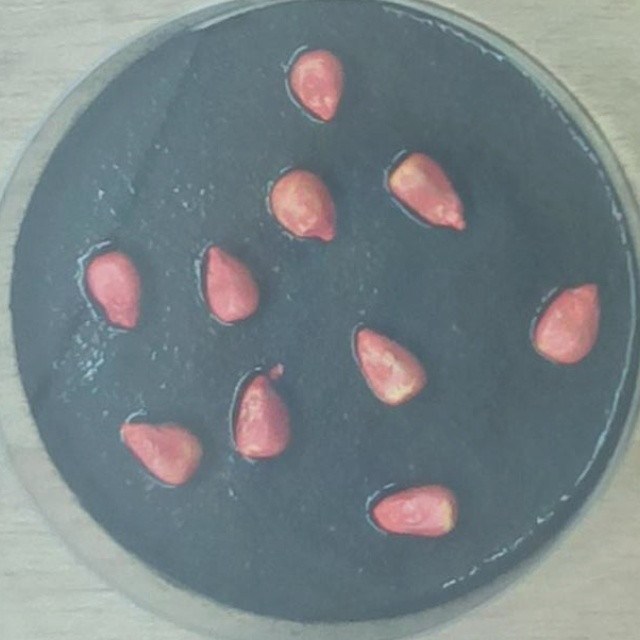Zea mays: (379, 142, 472, 240), (113, 409, 212, 495), (348, 318, 433, 413), (527, 271, 609, 368), (261, 159, 345, 250), (228, 360, 300, 466), (364, 474, 466, 543), (279, 40, 354, 130), (198, 237, 270, 330), (80, 241, 149, 338)
